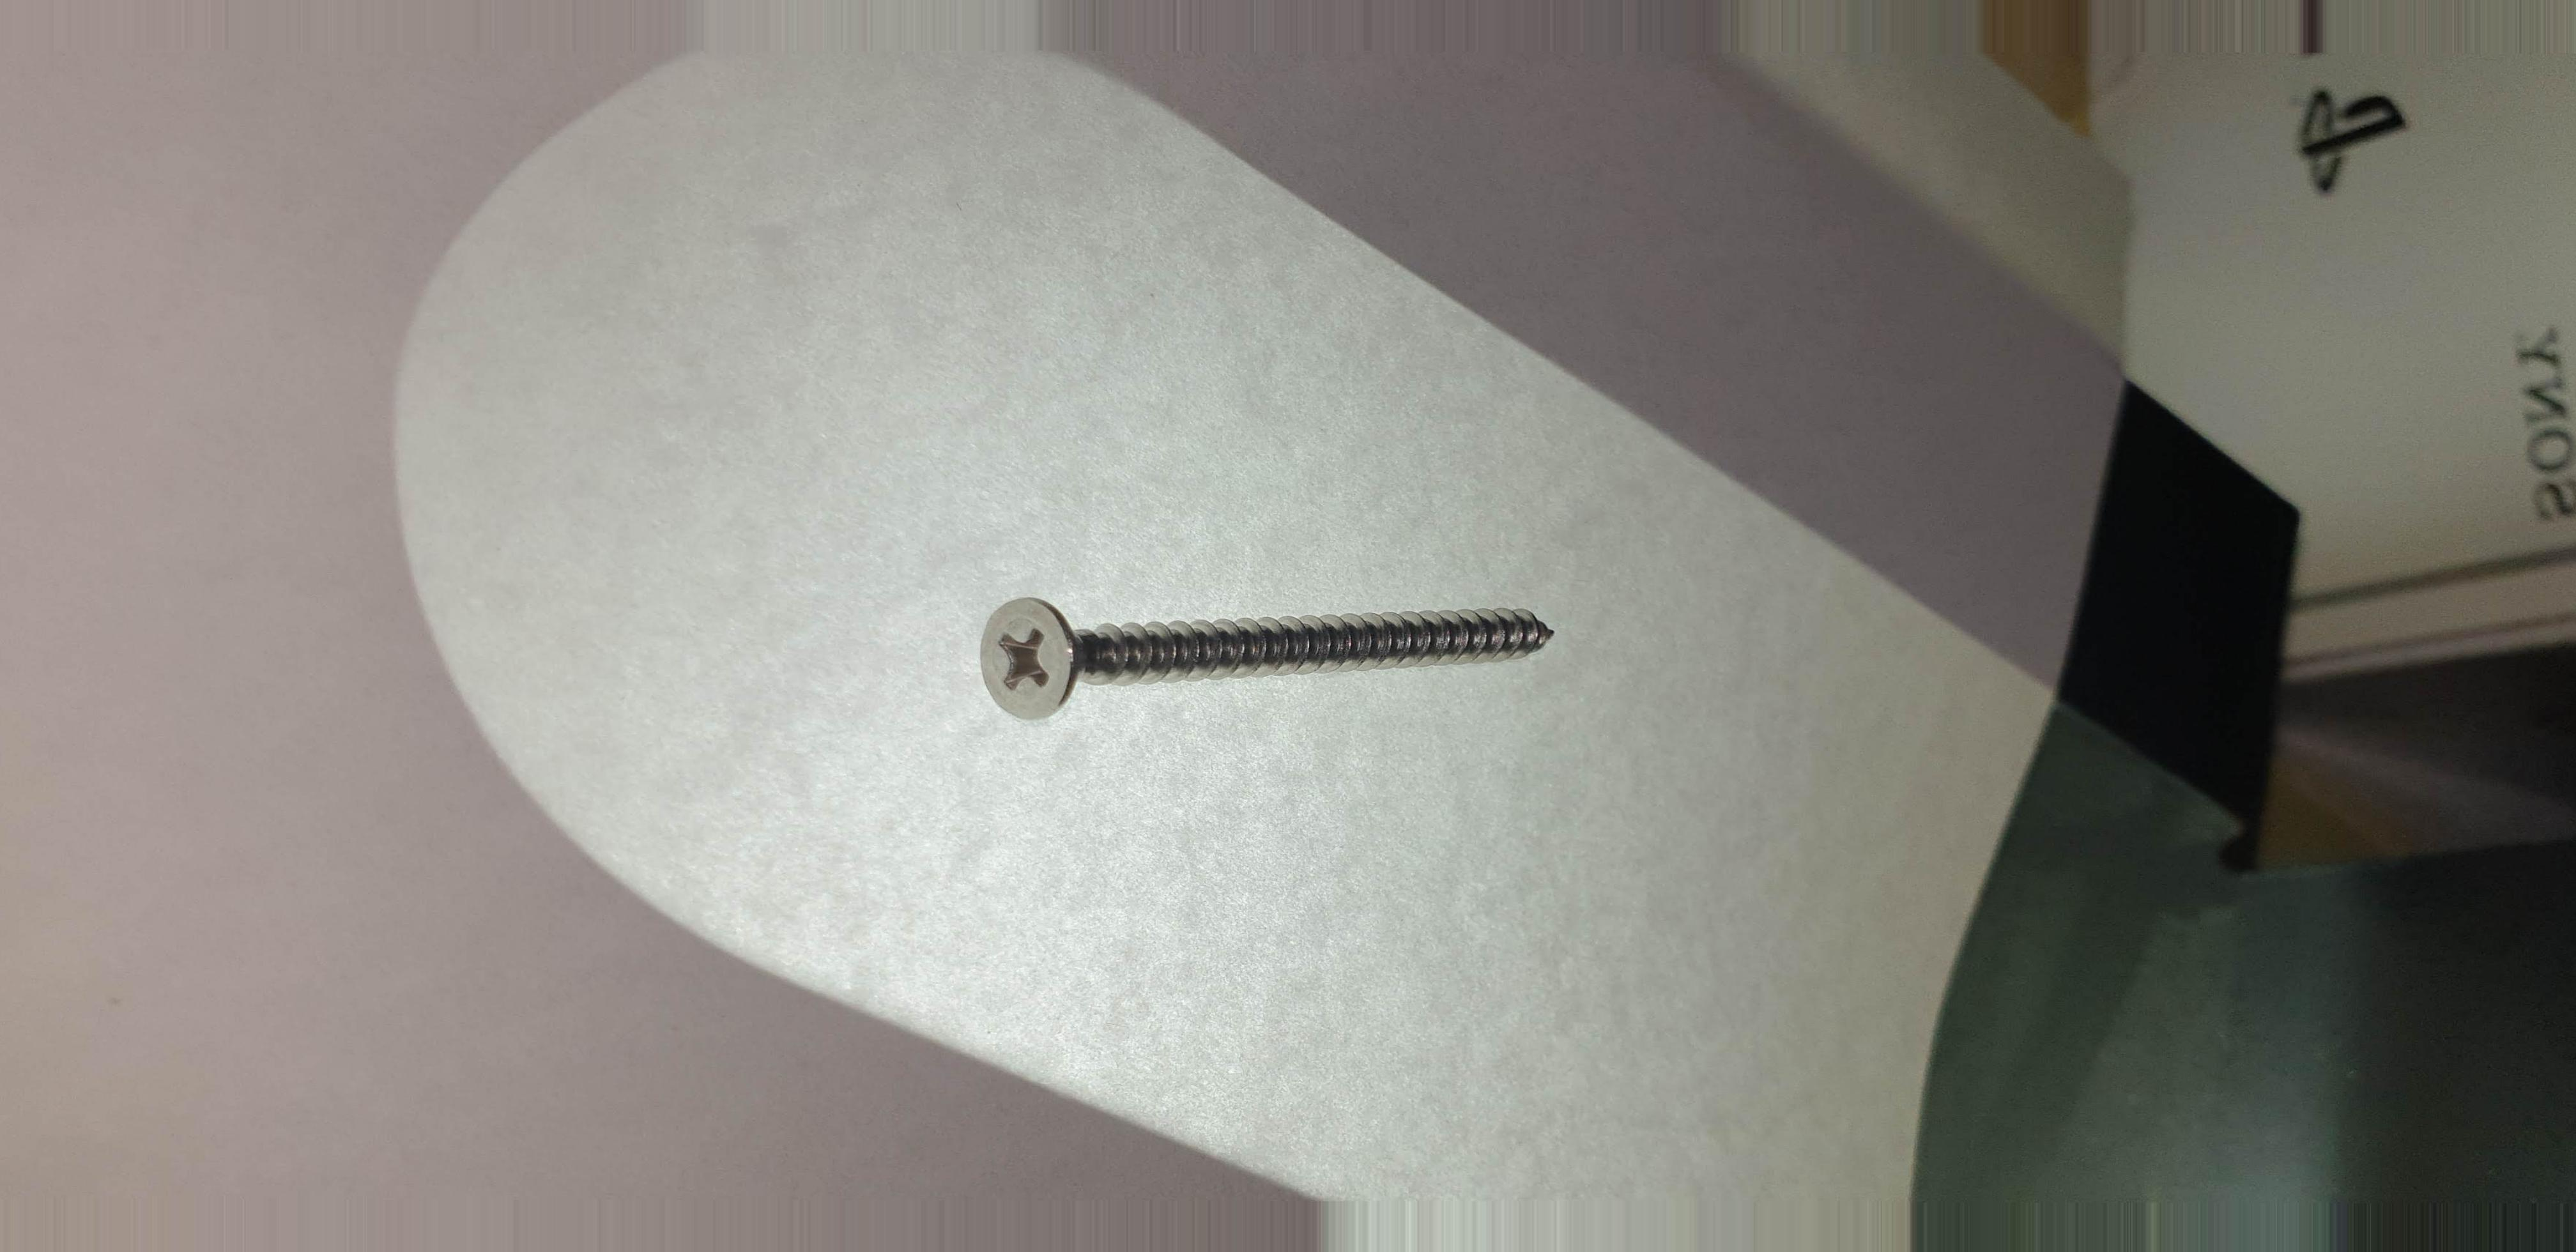fastener: (935, 572, 1620, 748)
